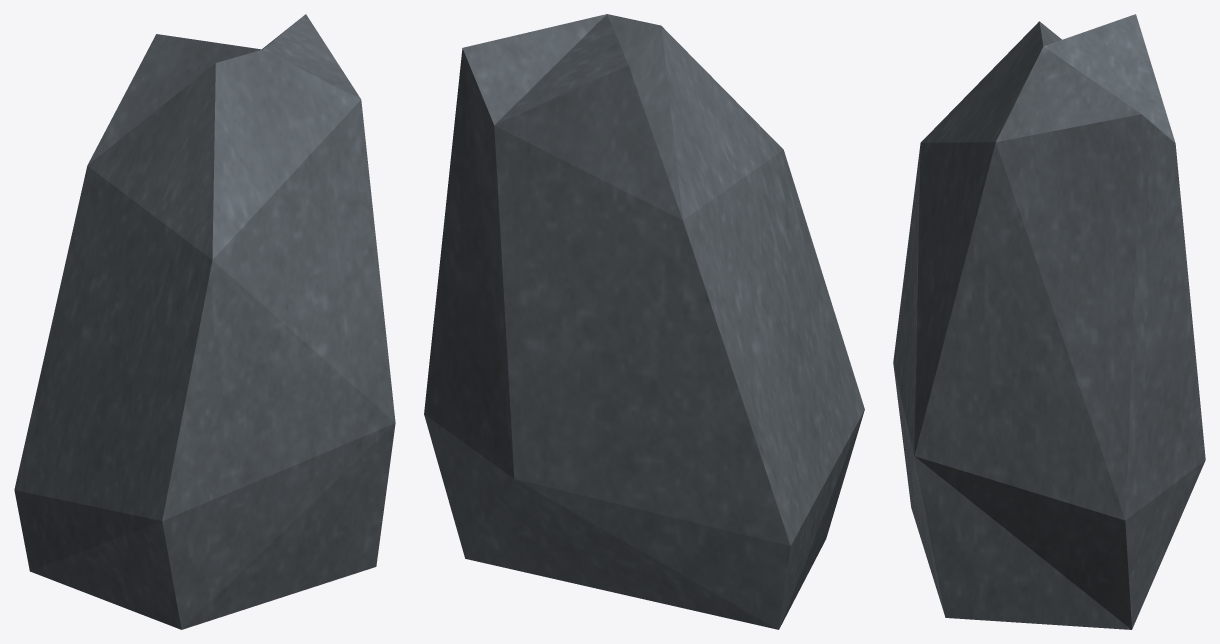
Rendered from boulder_split_monolith_LOD1.glb.
The picture shows the model from 3 angles, left to right: view 1: azimuth 30°, elevation 25°; view 2: azimuth 150°, elevation 25°; view 3: azimuth 270°, elevation 25°; orthographic projection. The views are drawn at different scales.
Visible parts, largest first — view 1: boulder_split_monolith_LOD1; view 2: boulder_split_monolith_LOD1; view 3: boulder_split_monolith_LOD1.
Boxes of the visible parts, x1,y1,x2,y2 form: boulder_split_monolith_LOD1: (14,14,395,629); boulder_split_monolith_LOD1: (424,14,864,629); boulder_split_monolith_LOD1: (893,14,1205,629).
Size of the model in its own units: 1.64 by 2.29 by 1.21.
1 material, 1 textured.
